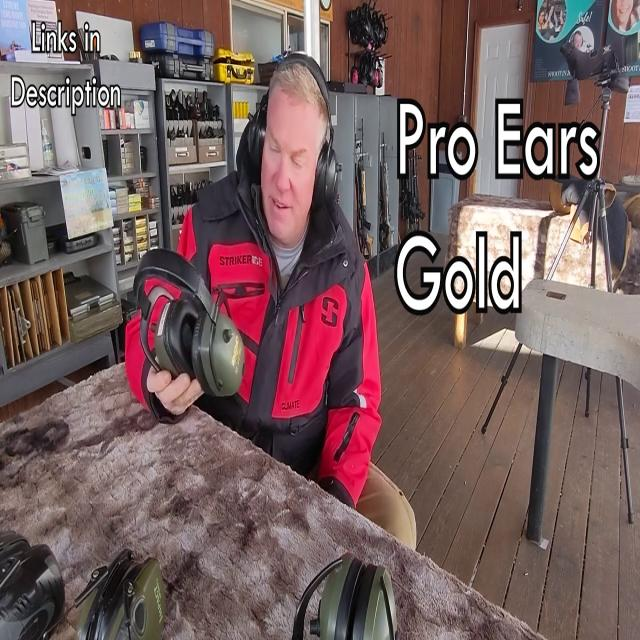earmuff: (192, 306, 247, 398), (150, 294, 197, 378), (312, 136, 344, 210), (245, 99, 266, 182)
